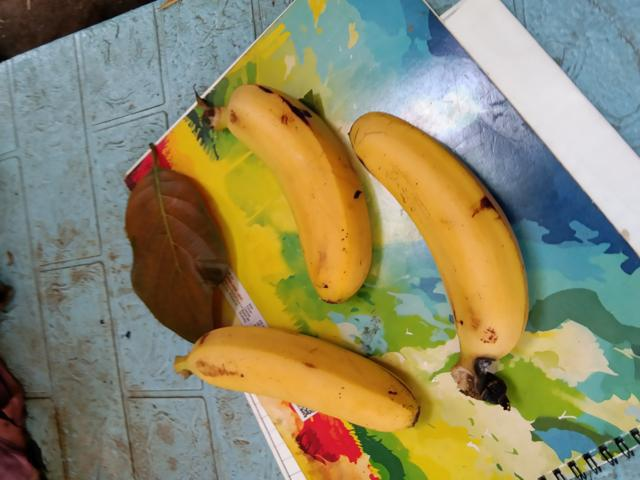freshripe: (188, 308, 443, 446)
ripe: (349, 112, 539, 368), (220, 73, 378, 310)
